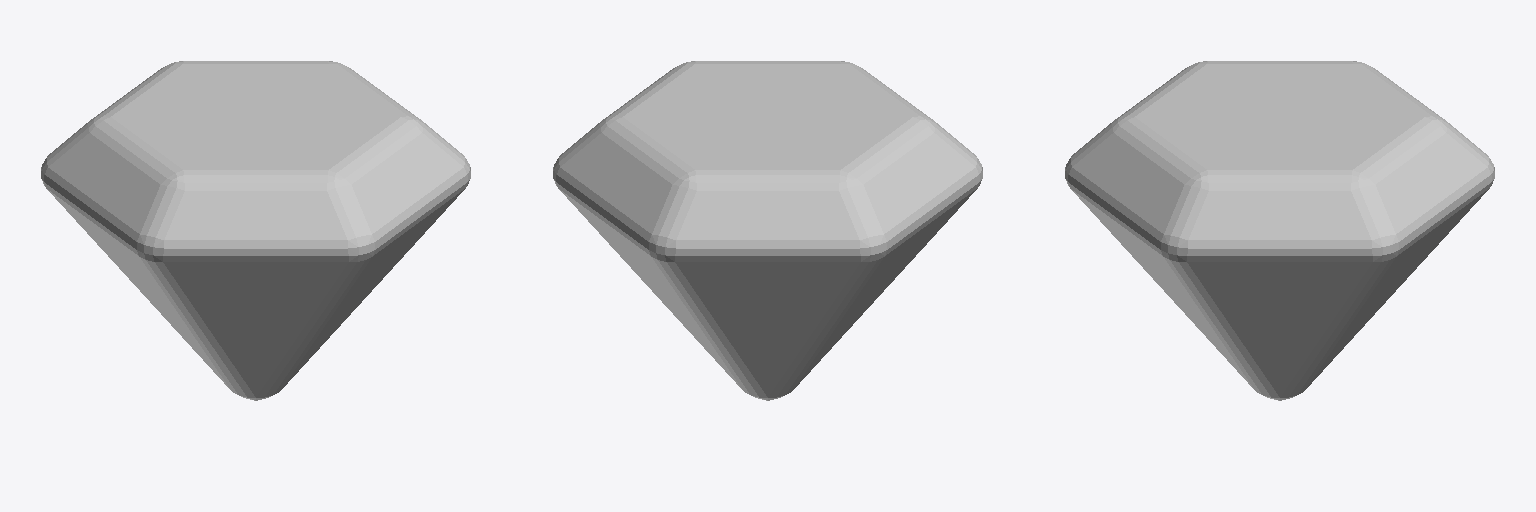
The model's file is Crystal.obj.
3 views of the same model, side by side, from view 1: azimuth 30°, elevation 25°; view 2: azimuth 150°, elevation 25°; view 3: azimuth 270°, elevation 25° (orthographic).
Parts seen in each view (by area): view 1: Crystal; view 2: Crystal; view 3: Crystal.
Boxes of the visible parts, box(x1,y1,x2,y2) form: Crystal: box(41, 61, 470, 400); Crystal: box(553, 61, 982, 400); Crystal: box(1065, 61, 1494, 400).
Bounding box in the file's own units: 3.19 × 2.56 × 3.59.